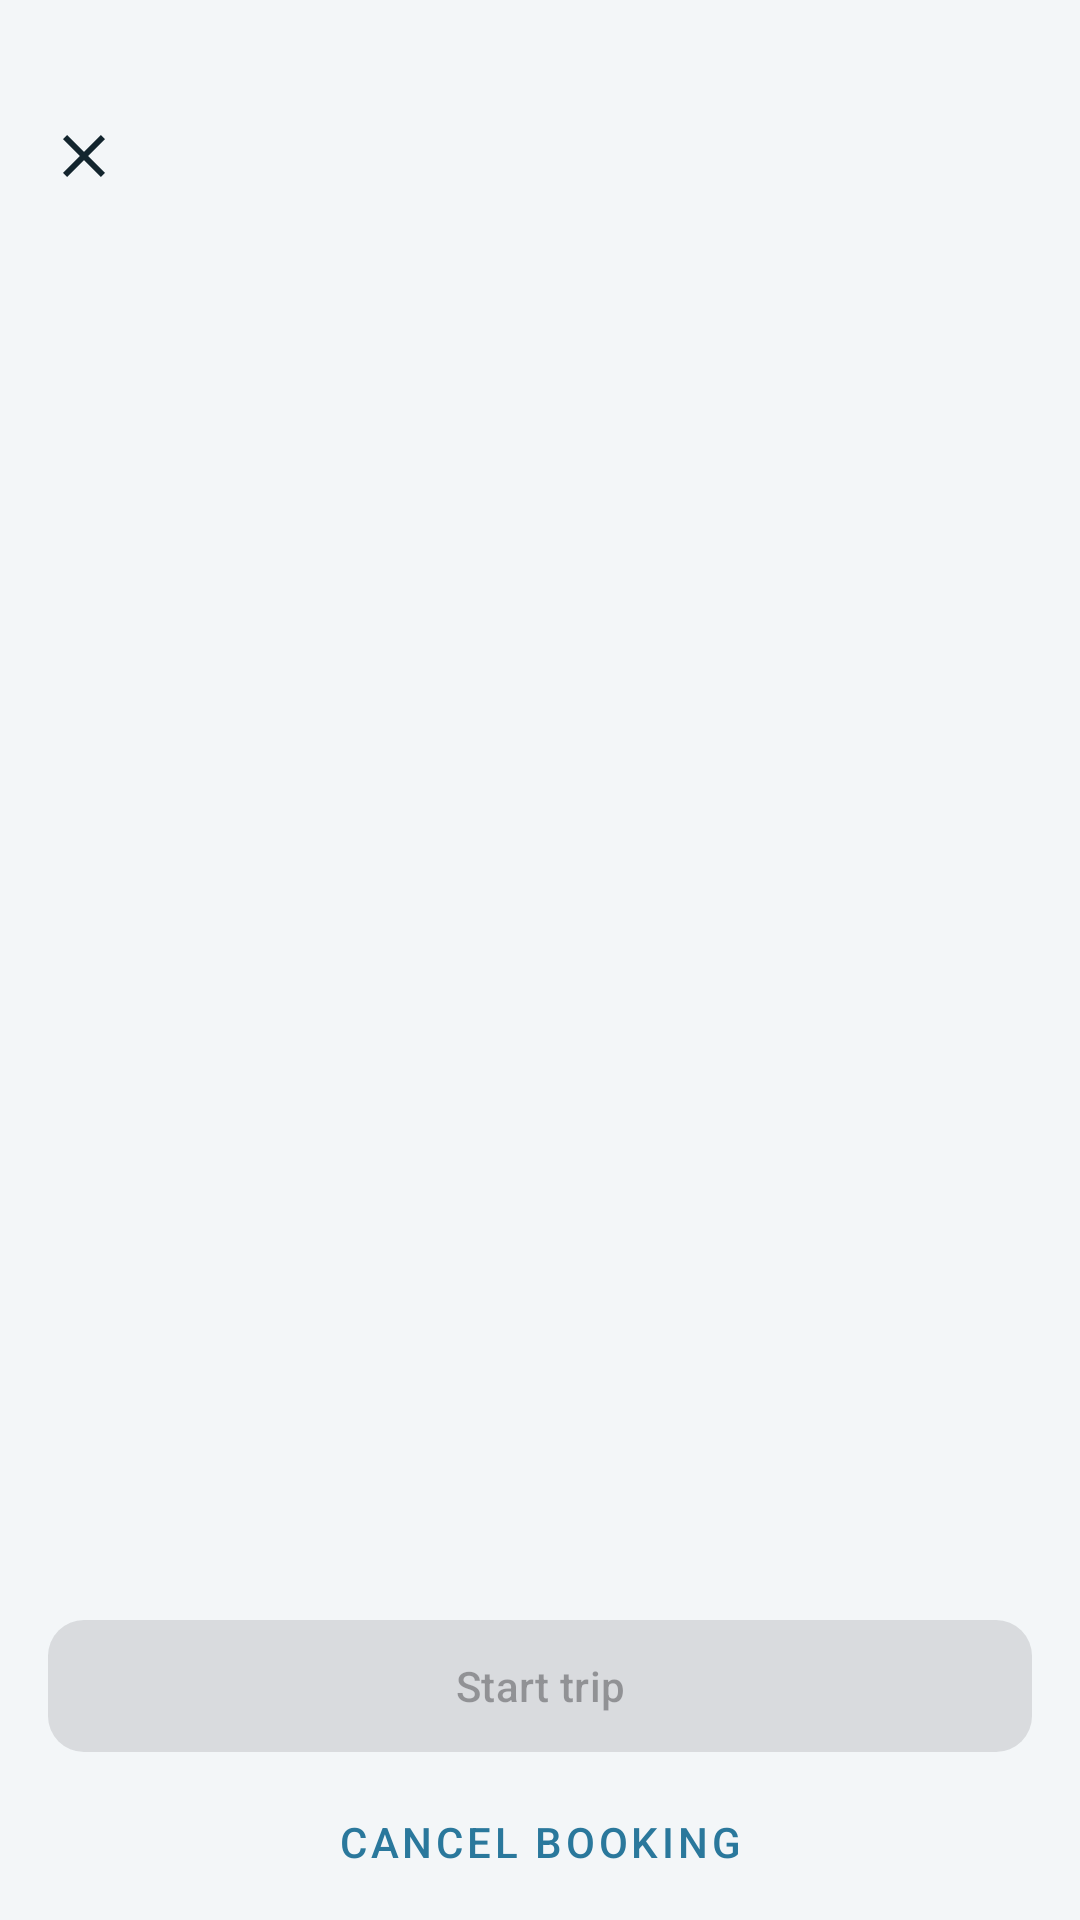

Named icons in this screenshot (1080w x 1920h) and their centers, (x,y):
Close: (84,156)
